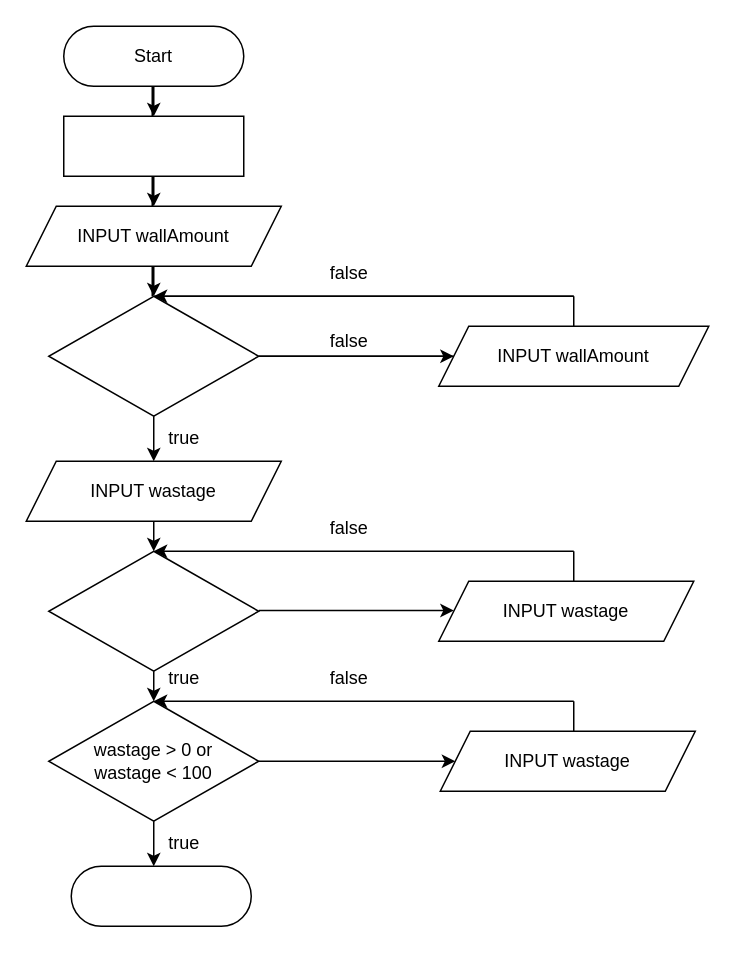
Image size: 735x953. Some labels were removed from this diagram. The shapes that lost their labels are listed below. From the top down, each one's box as (x1, y1, x2, y2) in pixels, then its label:
(62, 115, 244, 176): int wallAmount = 0 int wastage = 0
(47, 295, 259, 416): wallAmount is int
(47, 550, 259, 671): wastage is double
(70, 865, 251, 926): End
